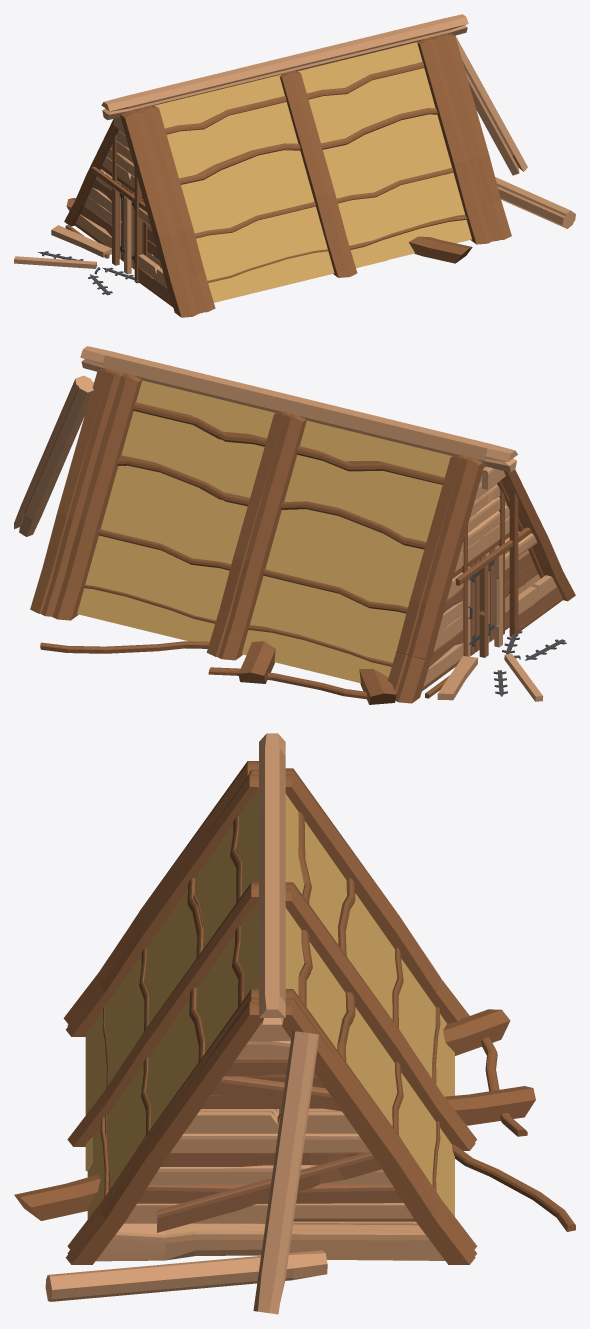
The model's file is HouseTribal.fbx.
The picture shows the model from 3 angles, top to bottom: view 1: azimuth 30°, elevation 25°; view 2: azimuth 150°, elevation 25°; view 3: azimuth 270°, elevation 25°; orthographic projection. The views are drawn at different scales.
Parts seen in each view (by area): view 1: MaisonNeuve, MaisonSemiDétruite, MaisonDétruite; view 2: MaisonNeuve, MaisonDétruite, MaisonSemiDétruite; view 3: MaisonSemiDétruite, MaisonNeuve, MaisonDétruite.
Part boxes in pixels (x1,y1,x2,y2): MaisonNeuve: [64, 14, 498, 313]; MaisonSemiDétruite: [51, 33, 527, 312]; MaisonDétruite: [14, 37, 575, 317]; MaisonNeuve: [41, 346, 543, 703]; MaisonDétruite: [40, 374, 575, 704]; MaisonSemiDétruite: [14, 369, 522, 700]; MaisonSemiDétruite: [14, 773, 527, 1314]; MaisonNeuve: [67, 733, 476, 1256]; MaisonDétruite: [45, 761, 575, 1301].
Size of the model in its own units: 13.39 by 8.64 by 4.57.
